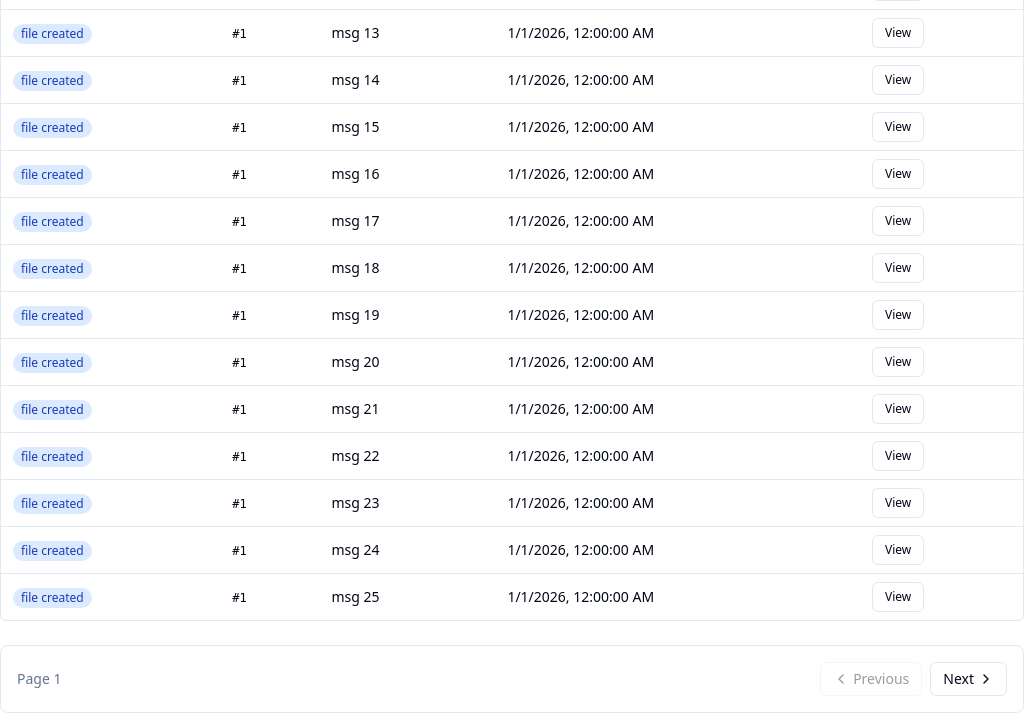
Test case: LogsPage › navigates to page 2 when Next is clicked
(page scrolled)
Click the button "Next": (969, 679) [930,662,1007,696]
(page scrolled)
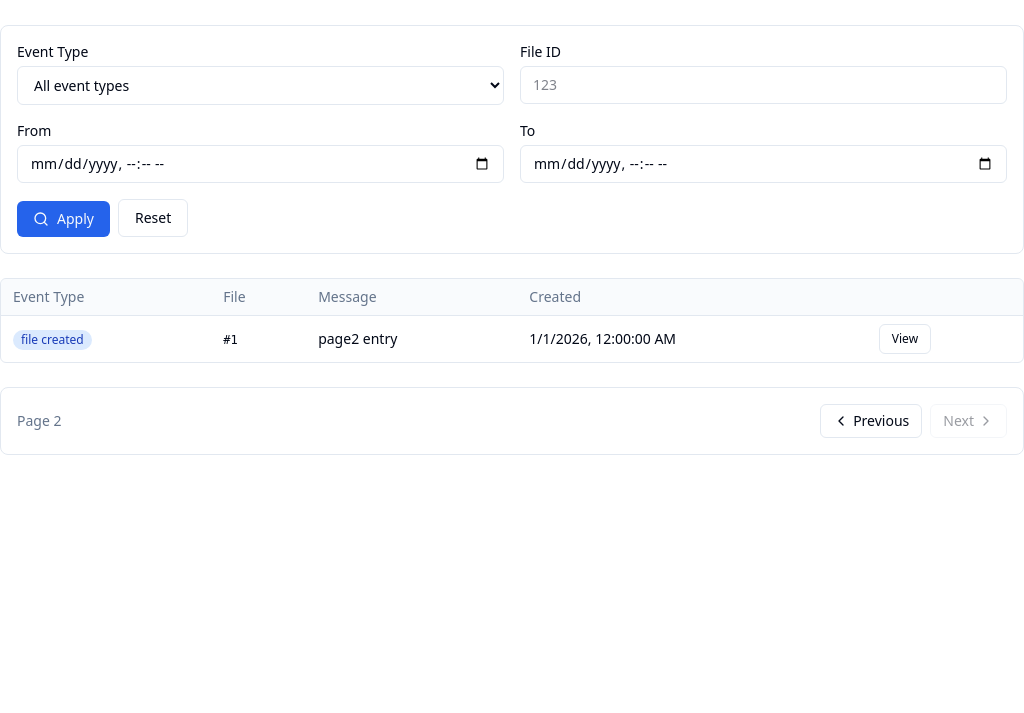
Expected: the text "page2 entry" is shown, [306,316,517,362]
